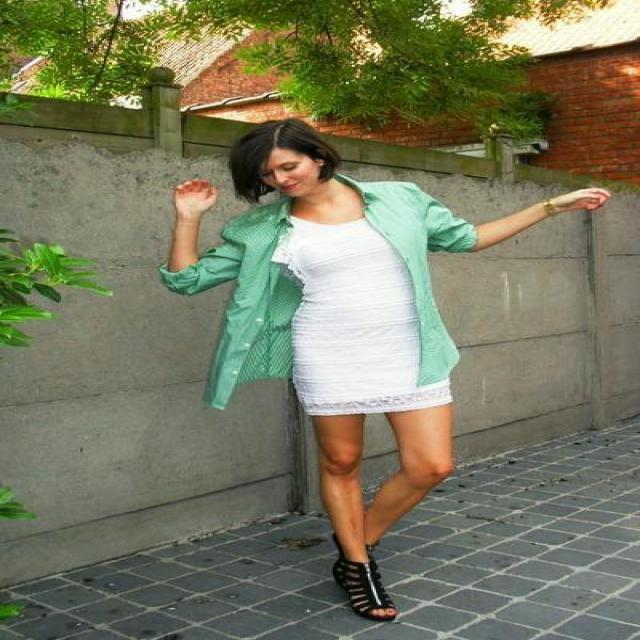dress: (272, 218, 451, 415)
jacket: (160, 176, 478, 409)
shoe: (333, 550, 395, 621)
